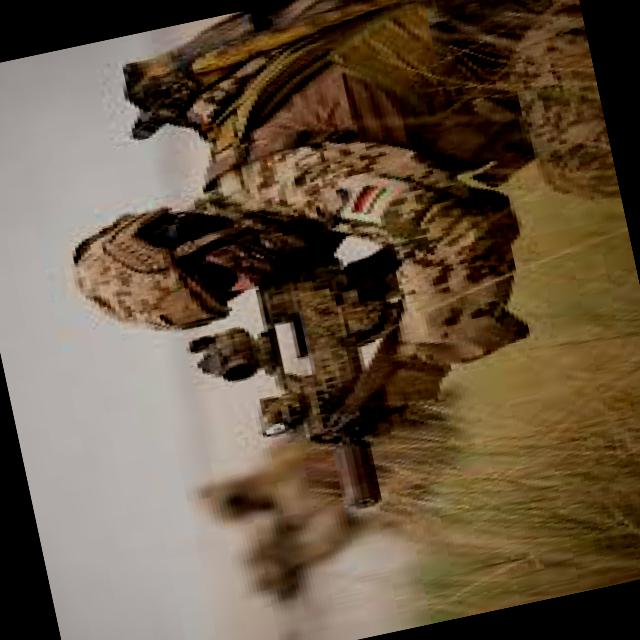long weapon: (187, 264, 486, 527)
